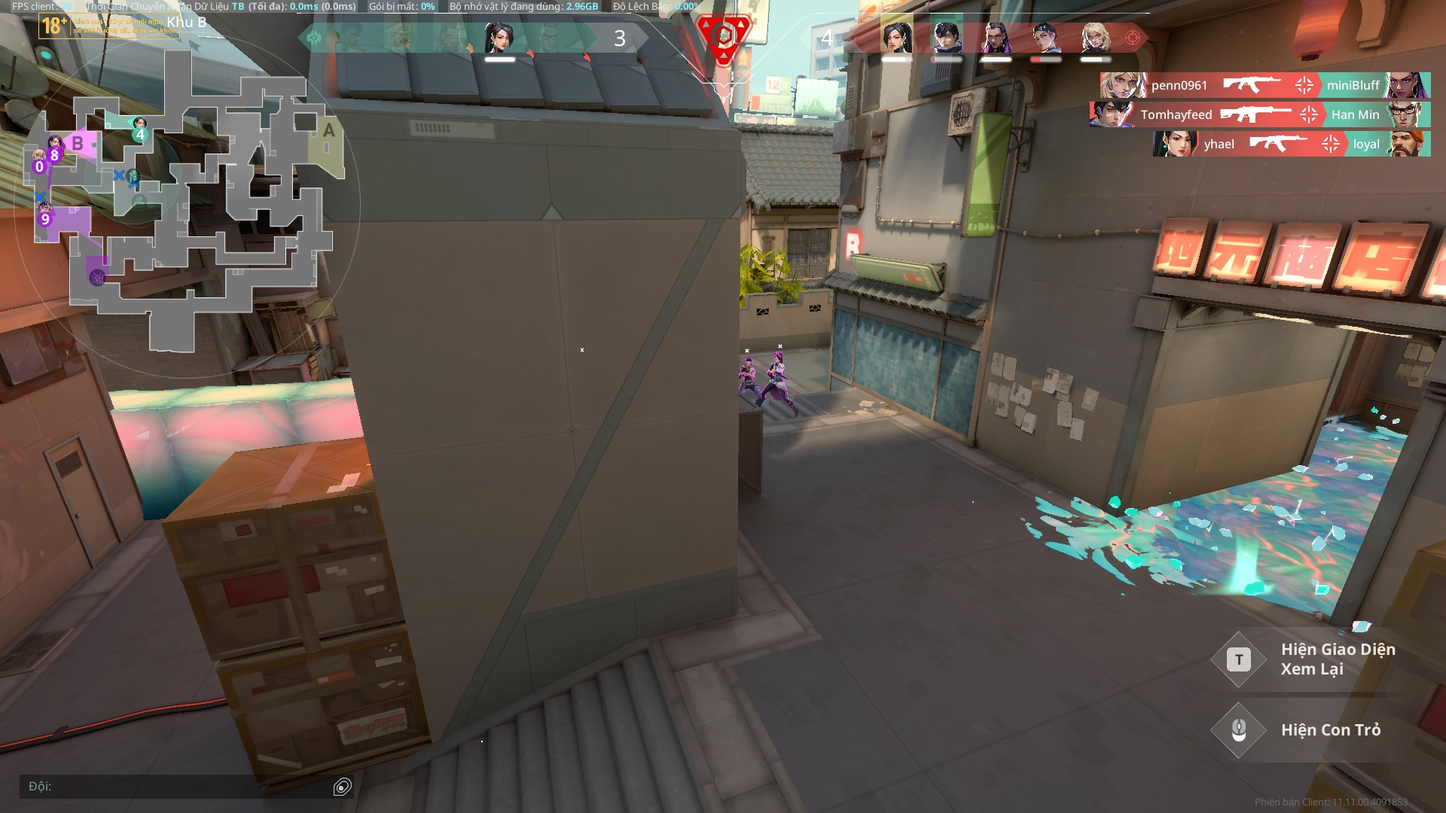body: (740, 364, 755, 382), (770, 361, 784, 379)
head: (774, 353, 782, 363), (745, 356, 752, 367)
